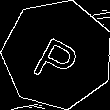P_NE: (29, 23, 86, 86)
